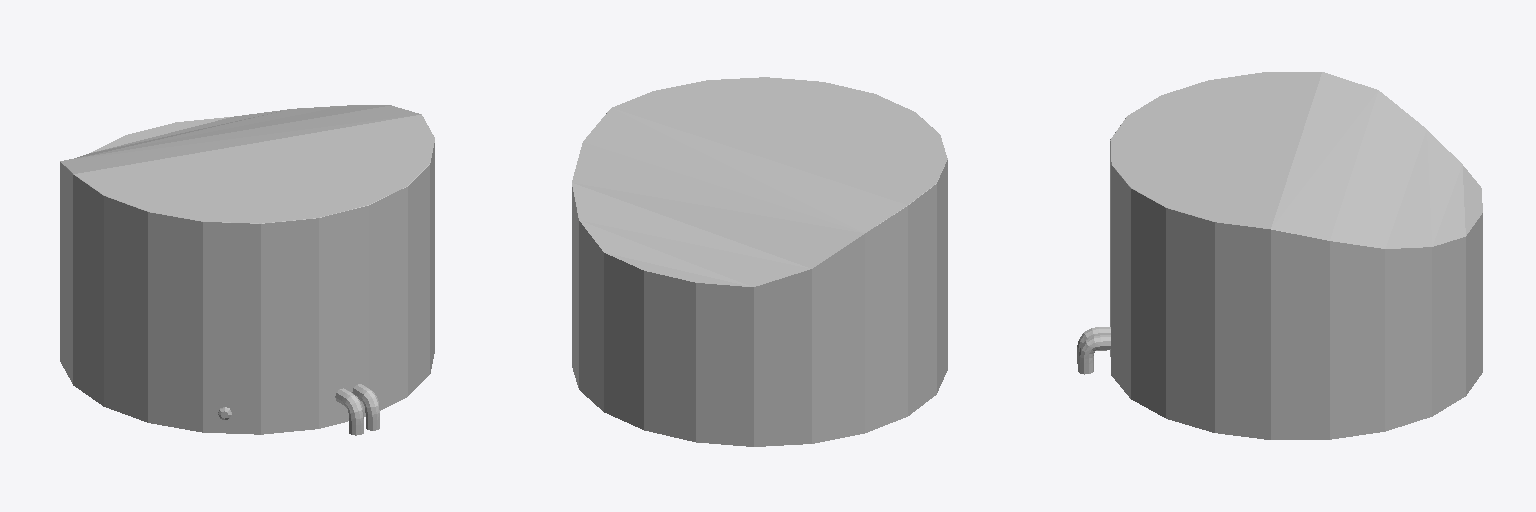
File: Oil_Silo_SMALL_DAMAGED.obj
The picture shows the model from 3 angles: view 1: azimuth 30°, elevation 25°; view 2: azimuth 150°, elevation 25°; view 3: azimuth 270°, elevation 25°; orthographic projection.
Visible parts, largest first — view 1: Oil_Silo_no_latter; view 2: Oil_Silo_no_latter; view 3: Oil_Silo_no_latter.
Boxes of the visible parts, x1=… form: Oil_Silo_no_latter: x1=60, y1=105, x2=434, y2=435; Oil_Silo_no_latter: x1=572, y1=77, x2=947, y2=446; Oil_Silo_no_latter: x1=1077, y1=72, x2=1482, y2=439.
Size of the model in its own units: 17.24 by 10.77 by 18.78.